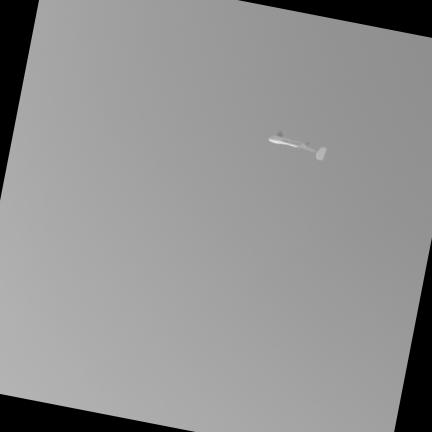Shahed: (268, 131, 325, 160)
